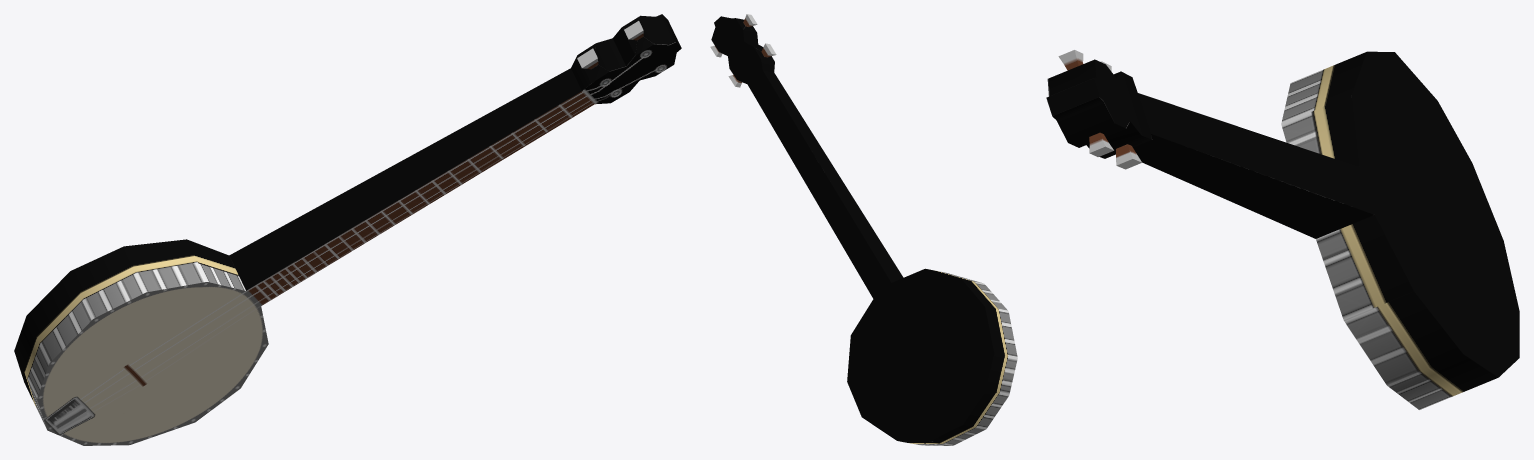
File: guitarra1_000200.obj
3 views of the same model, side by side, from view 1: azimuth 30°, elevation 25°; view 2: azimuth 150°, elevation 25°; view 3: azimuth 270°, elevation 25° (orthographic). The views are drawn at different scales.
Parts seen in each view (by area): view 1: g1_pCube6; view 2: g1_pCube6; view 3: g1_pCube6.
Part boxes in pixels (<box>): g1_pCube6: <box>14,14,681,445</box>; g1_pCube6: <box>710,14,1017,445</box>; g1_pCube6: <box>1046,50,1519,409</box>.
Size of the model in its own units: 10.92 by 8.43 by 6.03.
